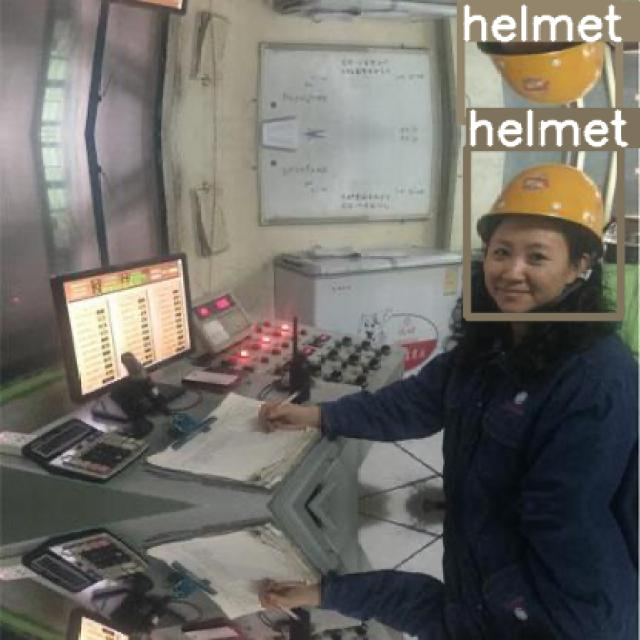helmet: (466, 147, 620, 316), (460, 2, 618, 120)
